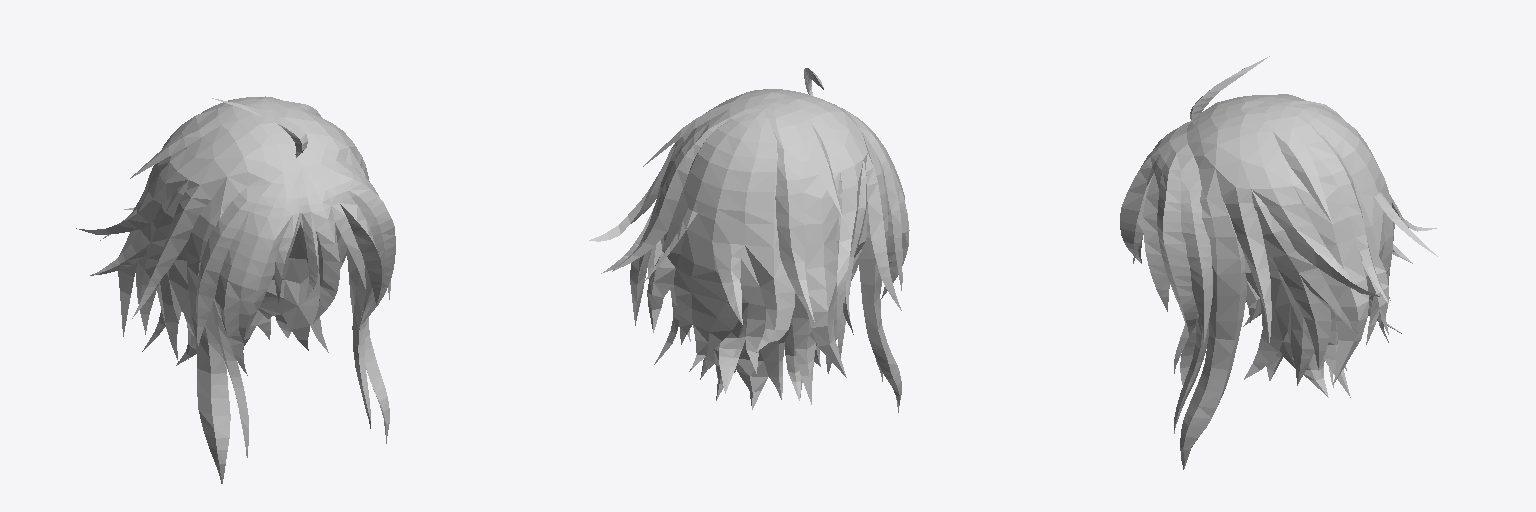
Rendered from mamama 2.obj.
The picture shows the model from 3 angles: view 1: azimuth 30°, elevation 25°; view 2: azimuth 150°, elevation 25°; view 3: azimuth 270°, elevation 25°; orthographic projection.
Size of the model in its own units: 34.72 by 44.99 by 37.36.